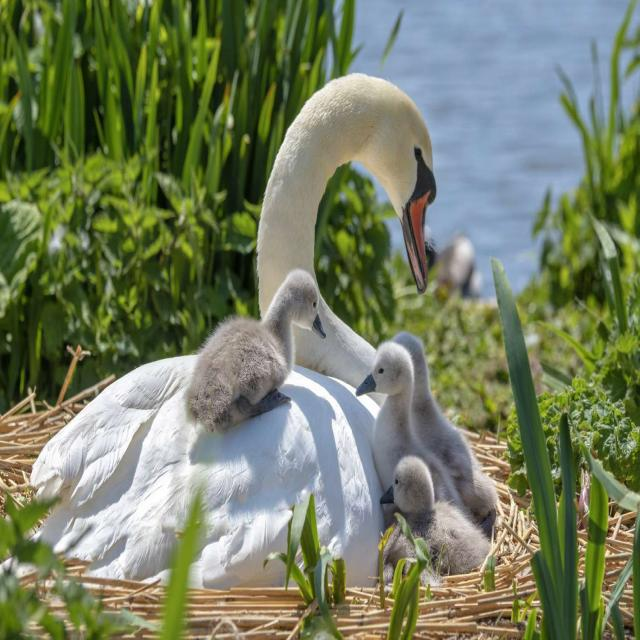Birds: (240, 63, 444, 314), (218, 258, 343, 420), (367, 452, 460, 563), (349, 328, 423, 462)
